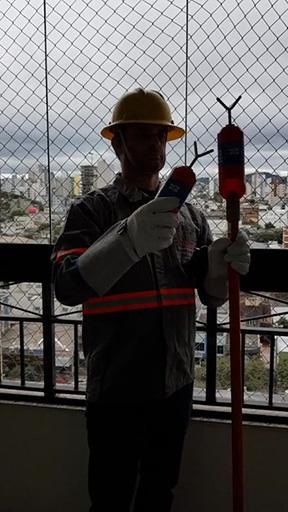Detector_Tensao_Contato: (154, 140, 212, 218), (216, 94, 246, 200)
Vara_Manobra: (226, 192, 246, 512)
